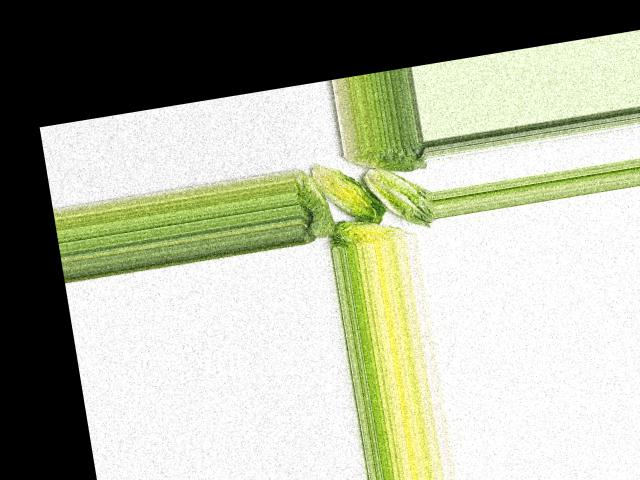lettuce: (292, 166, 339, 245)
